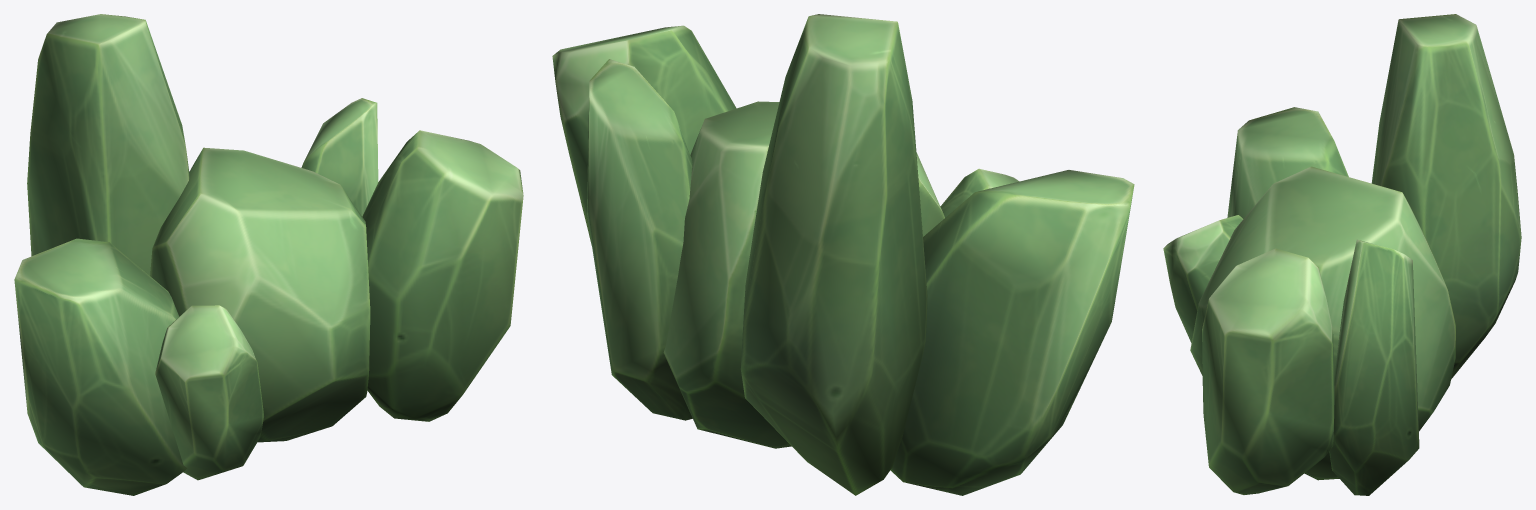
The model's file is SM_Gem_Jade_007.fbx.
3 renders of one model, left to right at view 1: azimuth 30°, elevation 25°; view 2: azimuth 150°, elevation 25°; view 3: azimuth 270°, elevation 25°, orthographic. The views are drawn at different scales.
Parts seen in each view (by area): view 1: SM_Gem_Jade_007; view 2: SM_Gem_Jade_007; view 3: SM_Gem_Jade_007.
Part boxes in pixels (<box>): SM_Gem_Jade_007: <box>14,14,523,495</box>; SM_Gem_Jade_007: <box>552,14,1134,495</box>; SM_Gem_Jade_007: <box>1163,14,1521,495</box>.
Bounding box in the file's own units: 78.34 × 63.01 × 51.56.
